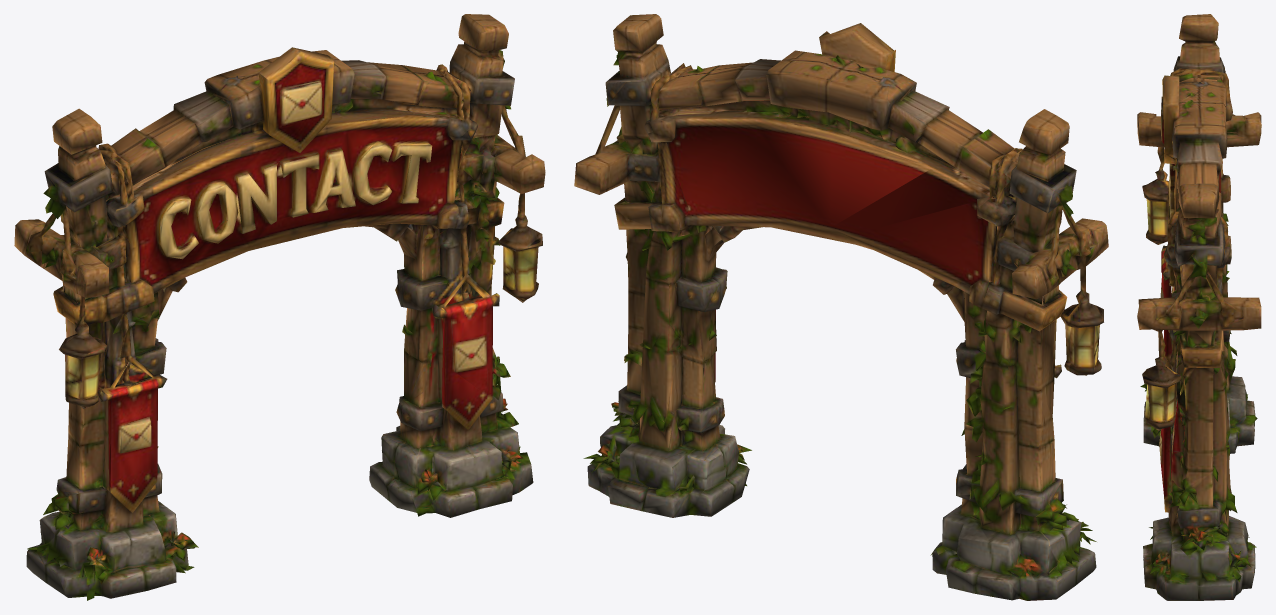
File: arch-contact.glb
3 renders of one model, left to right at view 1: azimuth 30°, elevation 25°; view 2: azimuth 150°, elevation 25°; view 3: azimuth 270°, elevation 25°, orthographic. The views are drawn at different scales.
Parts seen in each view (by area): view 1: Mesh1.0; view 2: Mesh1.0; view 3: Mesh1.0.
Part boxes in pixels (<box>): Mesh1.0: <box>14,14,545,600</box>; Mesh1.0: <box>574,14,1108,600</box>; Mesh1.0: <box>1137,14,1261,600</box>.
Size of the model in its own units: 1.9 by 1.86 by 0.4911.
Materials: 1 (1 with a texture image).
